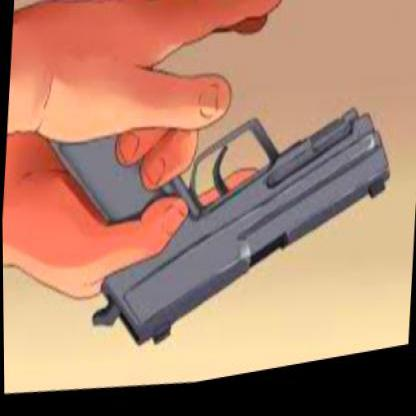pistol: (21, 60, 402, 411)
